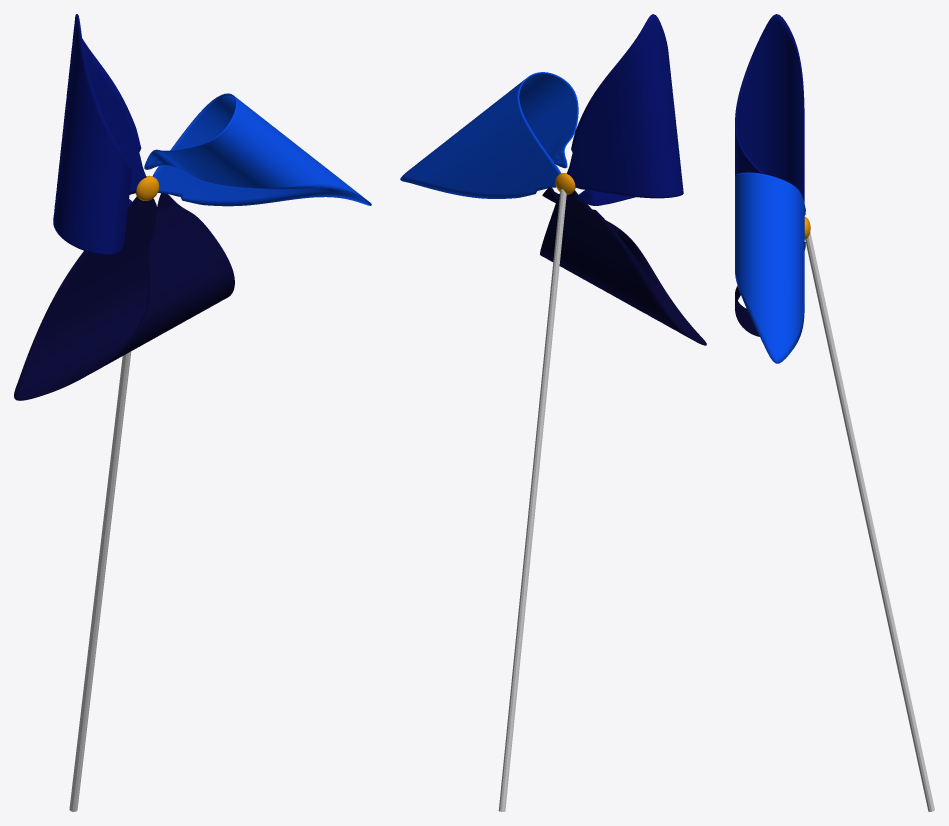
3 views of the same model, side by side, from view 1: azimuth 30°, elevation 25°; view 2: azimuth 150°, elevation 25°; view 3: azimuth 270°, elevation 25° (orthographic). The views are drawn at different scales.
Parts seen in each view (by area): view 1: MolenGoed; view 2: MolenGoed; view 3: MolenGoed.
Part boxes in pixels (<box>): MolenGoed: <box>14,14,371,811</box>; MolenGoed: <box>400,14,706,811</box>; MolenGoed: <box>735,14,934,811</box>.
Bounding box in the file's own units: 317 × 751 × 179.
